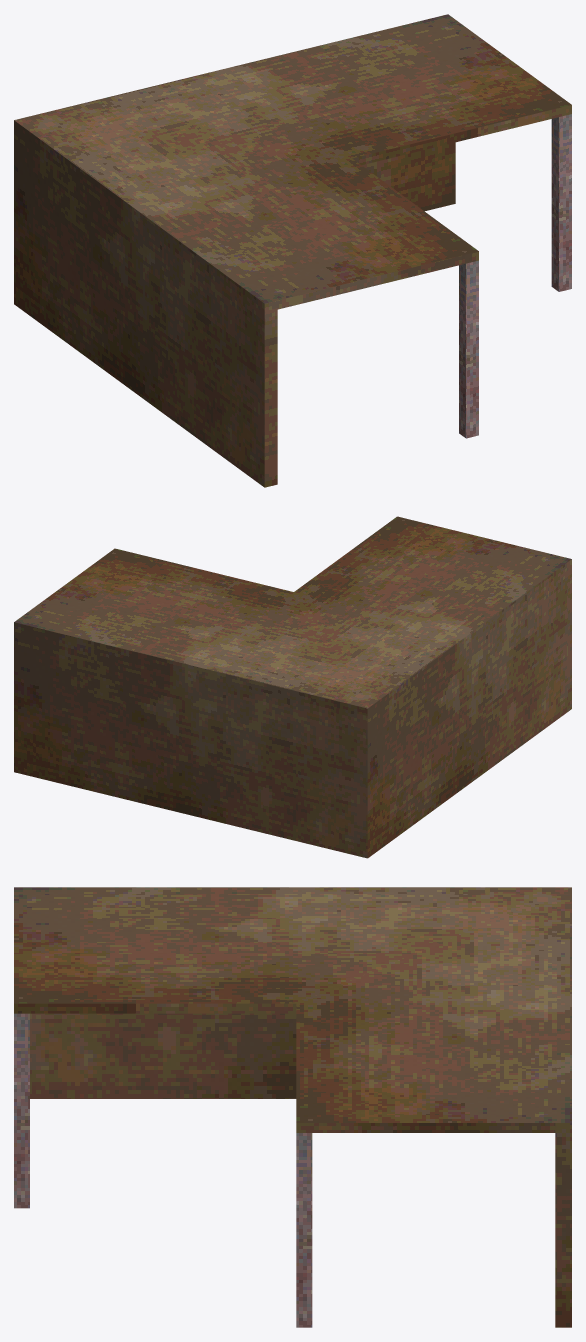
The model's file is desk1_corner_weathered.glb.
3 views of the same model, one above another, from view 1: azimuth 30°, elevation 25°; view 2: azimuth 150°, elevation 25°; view 3: azimuth 270°, elevation 25° (orthographic). The views are drawn at different scales.
Visible parts, largest first — view 1: desk1_corner_weathered; view 2: desk1_corner_weathered; view 3: desk1_corner_weathered.
Boxes of the visible parts, box(x1,y1,x2,y2) form: desk1_corner_weathered: box(14, 14, 571, 487); desk1_corner_weathered: box(14, 516, 571, 858); desk1_corner_weathered: box(14, 887, 571, 1327).
Bounding box in the file's own units: 2.2 × 0.8911 × 2.2.
Materials: 1 (1 with a texture image).
